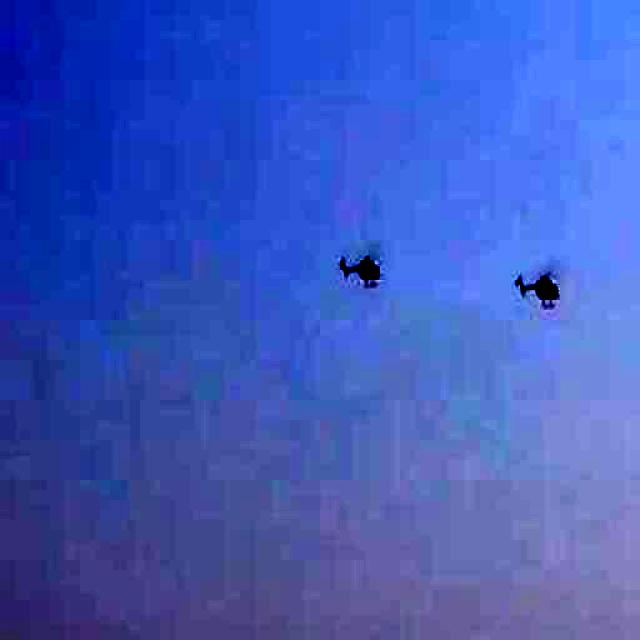drone: (326, 230, 392, 300), (509, 255, 569, 318)
